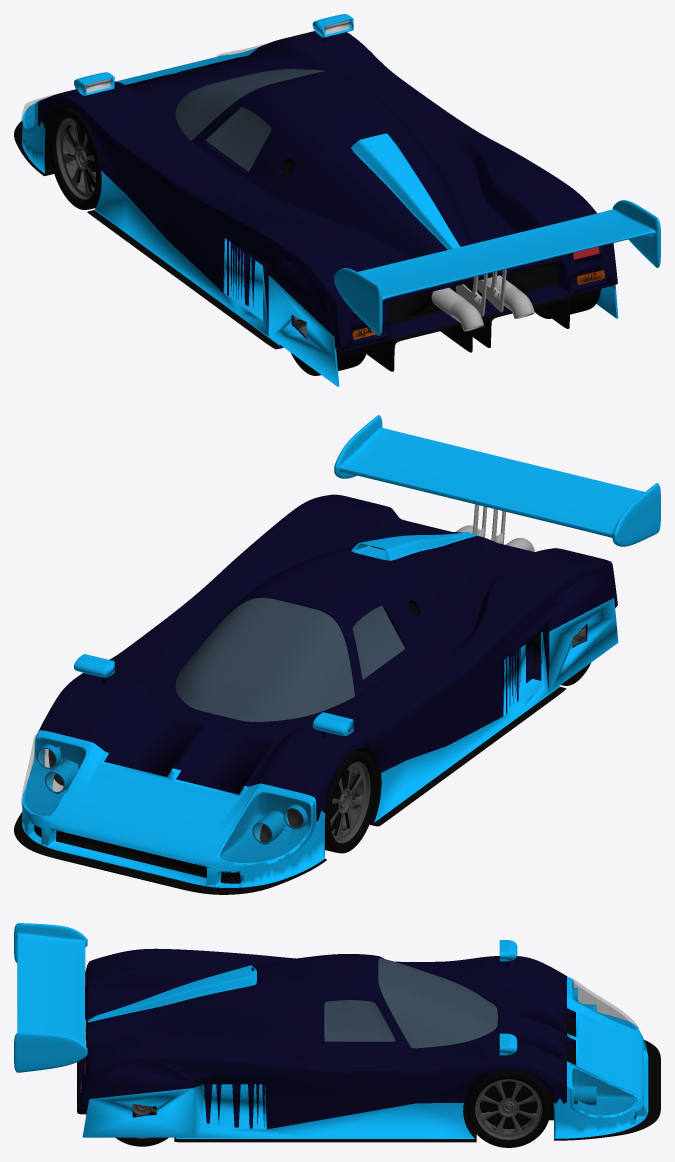
File: jaguar-xjr9.glb
3 views of the same model, one above another, from view 1: azimuth 30°, elevation 25°; view 2: azimuth 150°, elevation 25°; view 3: azimuth 270°, elevation 25° (orthographic). The views are drawn at different scales.
Visible parts, largest first — view 1: Exterior, Wheel_FL, Wheel_RL, Wheel_RR; view 2: Exterior, Wheel_FL; view 3: Exterior, Wheel_FR, Wheel_RR.
Part boxes in pixels (x1=…): Exterior: x1=14, y1=14, x2=660, y2=386; Wheel_FL: x1=48, y1=107, x2=101, y2=209; Wheel_RL: x1=291, y1=316, x2=368, y2=375; Wheel_RR: x1=533, y1=289, x2=601, y2=318; Exterior: x1=14, y1=415, x2=660, y2=894; Wheel_FL: x1=288, y1=750, x2=377, y2=853; Exterior: x1=14, y1=923, x2=660, y2=1142; Wheel_FR: x1=467, y1=1069, x2=550, y2=1147; Wheel_RR: x1=115, y1=1103, x2=168, y2=1146.
Size of the model in its own units: 5.09 by 2.62 by 12.08.
